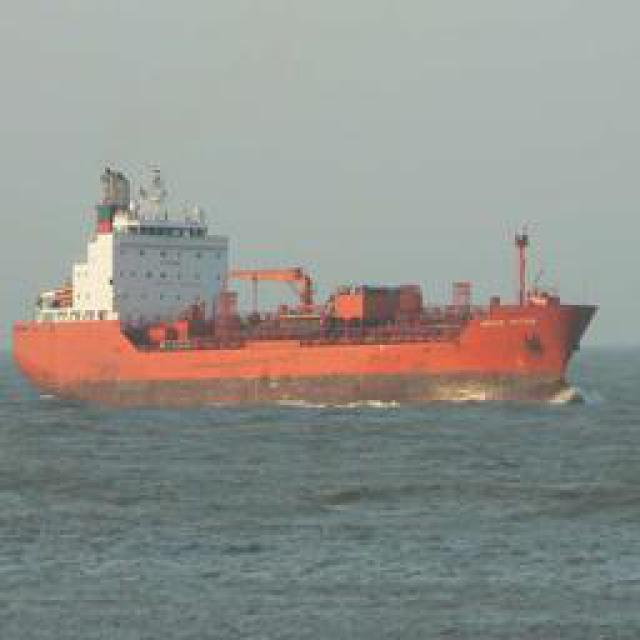Ship: (17, 172, 605, 410)
